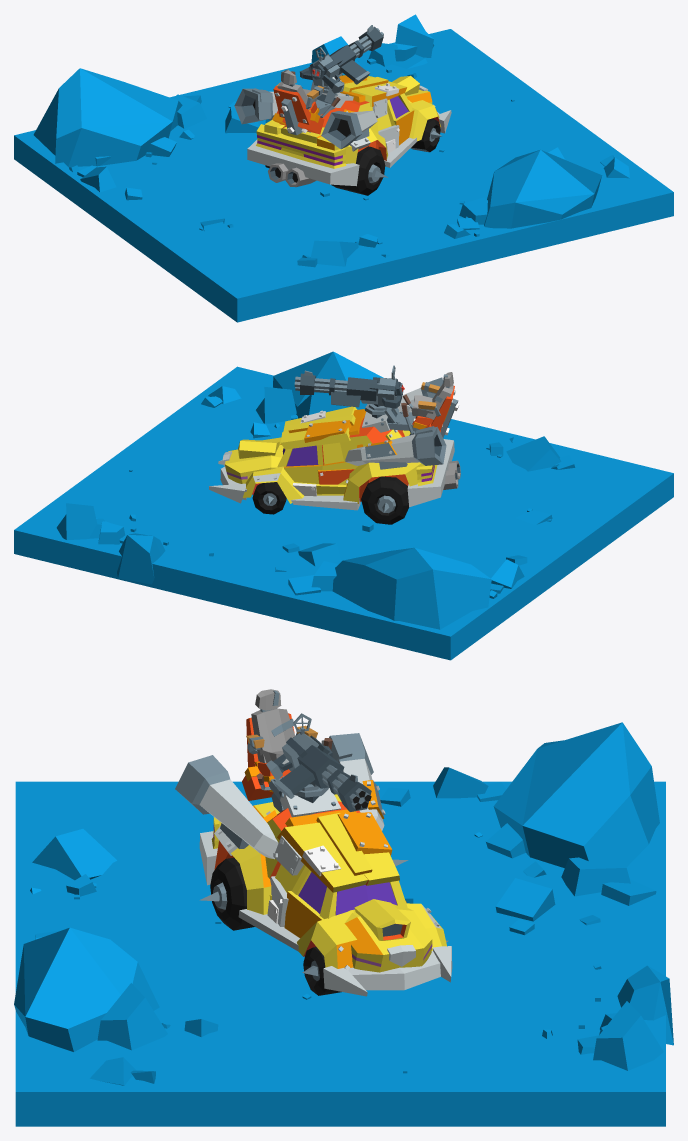
Rendered from scene_Fr9GubP2QB.glb.
3 views of the same model, one above another, from view 1: azimuth 30°, elevation 25°; view 2: azimuth 150°, elevation 25°; view 3: azimuth 270°, elevation 25° (orthographic). The views are drawn at different scales.
Visible parts, largest first — view 1: group446243816, group883247217, group1013917617, group1622432240, group695276076, group1275161298, group1713966459, group435993546, group260000791, group2001411162, group226554271; view 2: group446243816, group883247217, group1013917617, group1622432240, group823859712, group1275161298, group695276076, group626470097, group2001411162, group435993546, group1713966459, group226554271 (+1 smaller); view 3: group446243816, group883247217, group1013917617, group1622432240, group695276076, group626470097, group1275161298, group823859712, group1713966459, group2001411162, group435993546, group36562662 (+2 smaller).
Boxes of the visible parts, left/top/right/bottom form: group446243816: left=14, top=29, right=673, bottom=322; group883247217: left=234, top=25, right=451, bottom=195; group1013917617: left=33, top=68, right=182, bottom=166; group1622432240: left=484, top=149, right=601, bottom=228; group695276076: left=395, top=14, right=434, bottom=57; group1275161298: left=310, top=240, right=358, bottom=266; group1713966459: left=172, top=94, right=206, bottom=128; group435993546: left=80, top=166, right=116, bottom=192; group260000791: left=459, top=197, right=487, bottom=224; group2001411162: left=225, top=107, right=258, bottom=133; group226554271: left=368, top=43, right=397, bottom=66; group446243816: left=14, top=366, right=673, bottom=660; group883247217: left=209, top=365, right=460, bottom=524; group1013917617: left=332, top=547, right=491, bottom=629; group1622432240: left=273, top=351, right=383, bottom=418; group823859712: left=117, top=533, right=165, bottom=584; group1275161298: left=506, top=436, right=561, bottom=471; group695276076: left=56, top=503, right=97, bottom=540; group626470097: left=256, top=387, right=296, bottom=423; group2001411162: left=298, top=543, right=340, bottom=566; group435993546: left=491, top=559, right=524, bottom=588; group1713966459: left=311, top=561, right=338, bottom=591; group226554271: left=98, top=521, right=125, bottom=544; group446243816: left=15, top=781, right=665, bottom=1126; group883247217: left=175, top=689, right=452, bottom=996; group1013917617: left=493, top=722, right=659, bottom=868; group1622432240: left=14, top=927, right=159, bottom=1051; group695276076: left=593, top=1001, right=663, bottom=1070; group626470097: left=97, top=983, right=167, bottom=1050; group1275161298: left=32, top=829, right=116, bottom=880; group823859712: left=617, top=965, right=673, bottom=1045; group1713966459: left=561, top=855, right=630, bottom=896; group2001411162: left=495, top=878, right=555, bottom=921; group435993546: left=433, top=767, right=488, bottom=798; group36562662: left=601, top=879, right=656, bottom=905.
Size of the model in its own units: 3.64 by 1.36 by 3.27.
